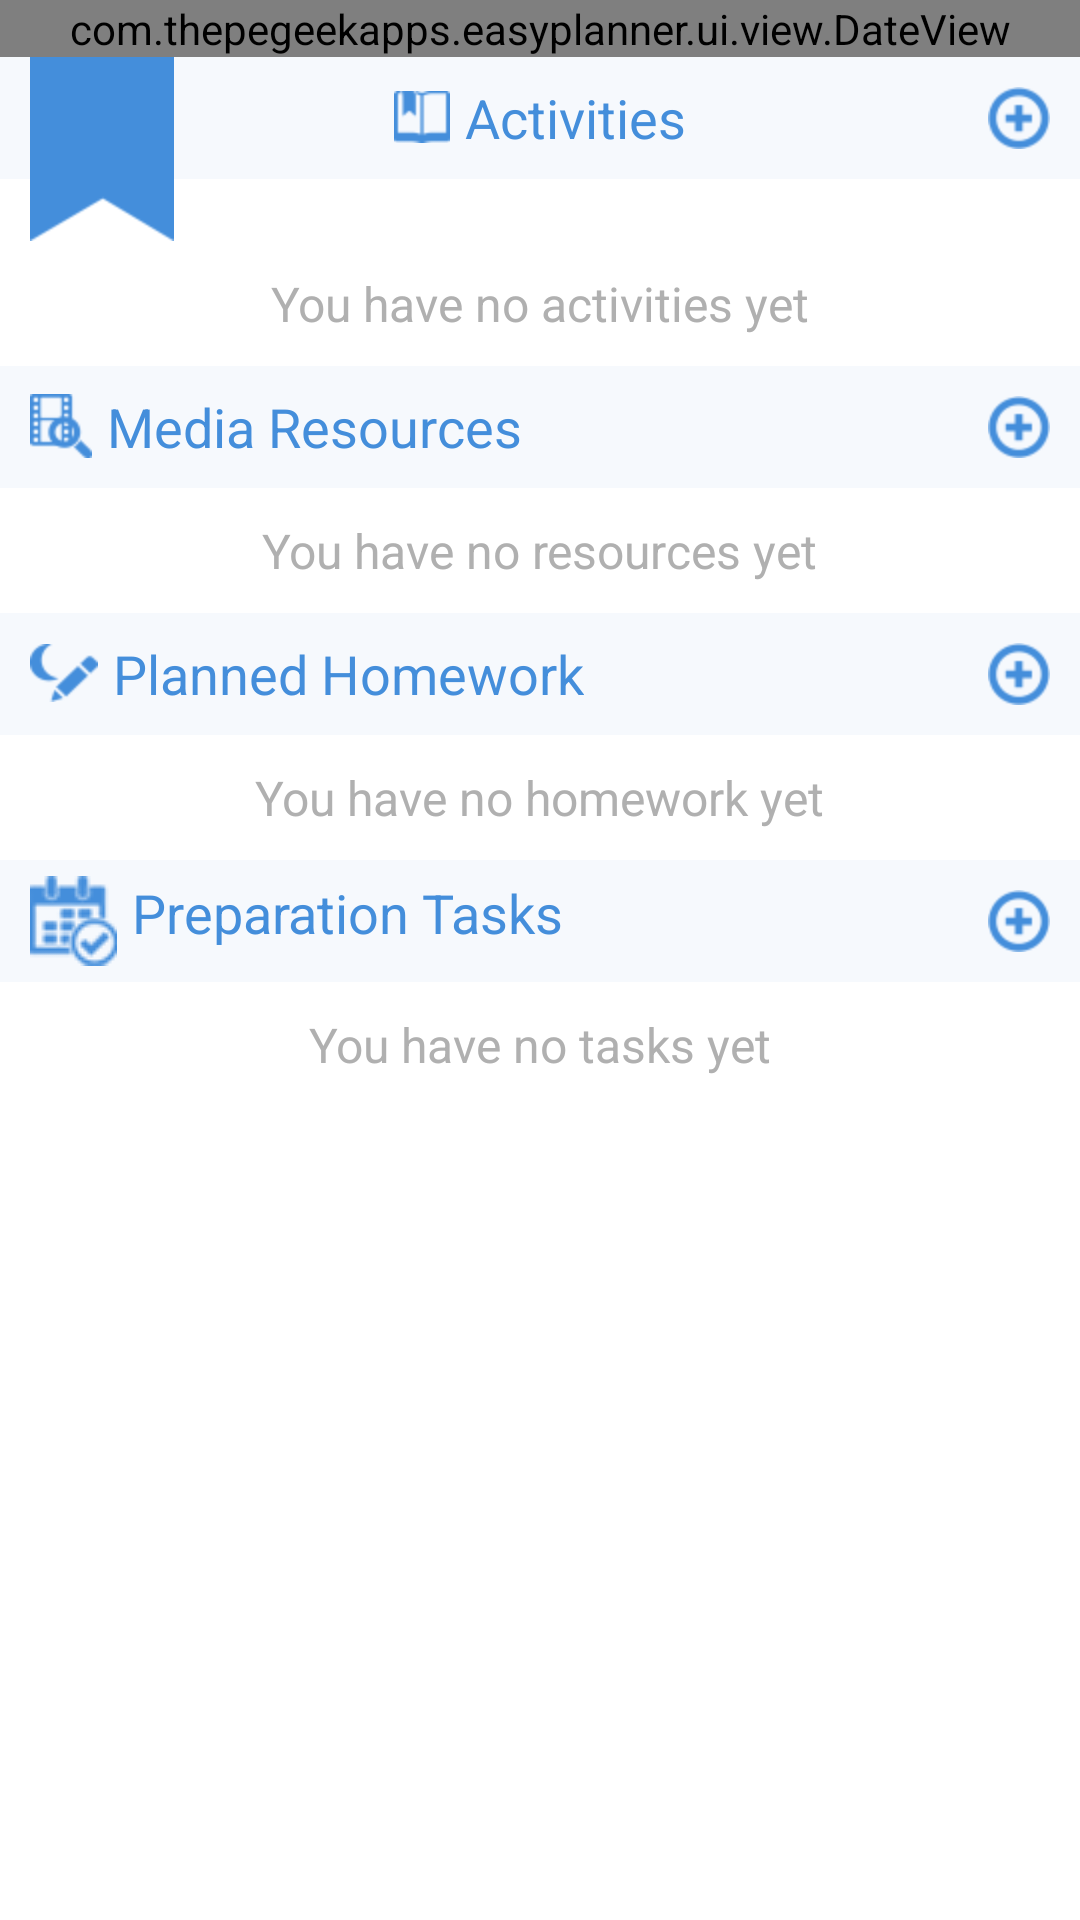

Icon click points for this 1080*1920 phone screenshot, format point (x, y):
add: point (1019, 118), point (1019, 427), point (1019, 674), point (1019, 921)
today marker: point (102, 149)
